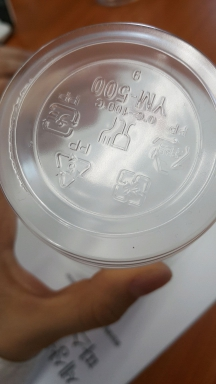recycle: (48, 138, 97, 192)
